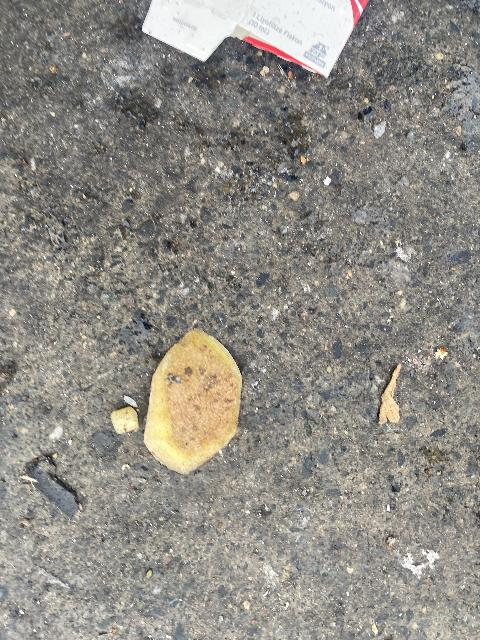Kagit: (132, 0, 405, 60), (368, 361, 412, 430), (402, 555, 439, 578)
Organik: (148, 330, 240, 479), (98, 410, 138, 433)
